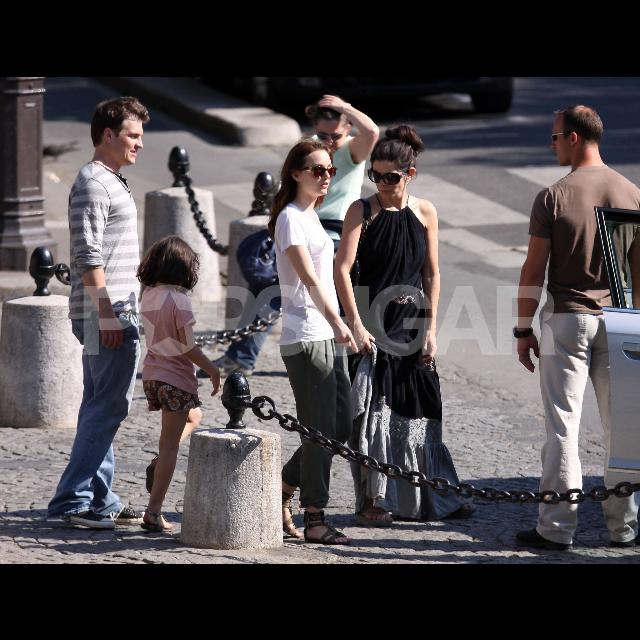head: (92, 97, 144, 165), (550, 104, 604, 166), (372, 136, 416, 200), (288, 142, 332, 194), (314, 98, 352, 154), (148, 236, 190, 286)
person: (330, 119, 484, 529), (38, 92, 158, 534), (256, 136, 368, 546), (283, 91, 385, 429), (119, 228, 227, 532)
